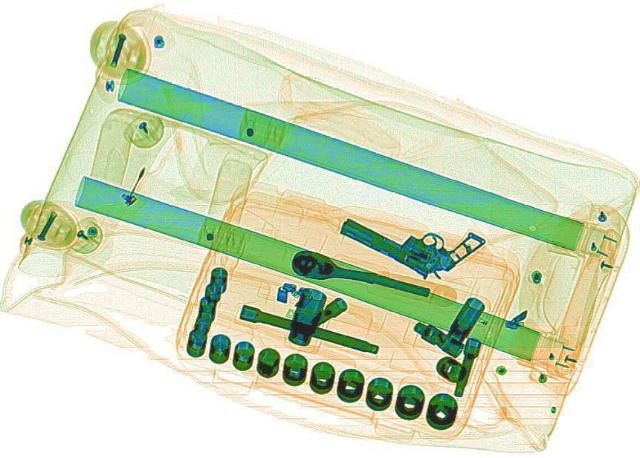Gun: (327, 189, 487, 283)
